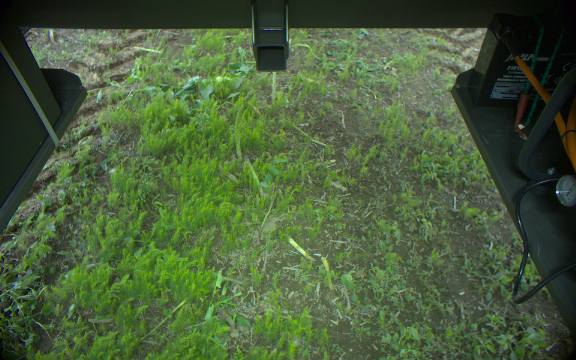aspa: (233, 92, 255, 158), (283, 235, 314, 265), (269, 72, 279, 103)
